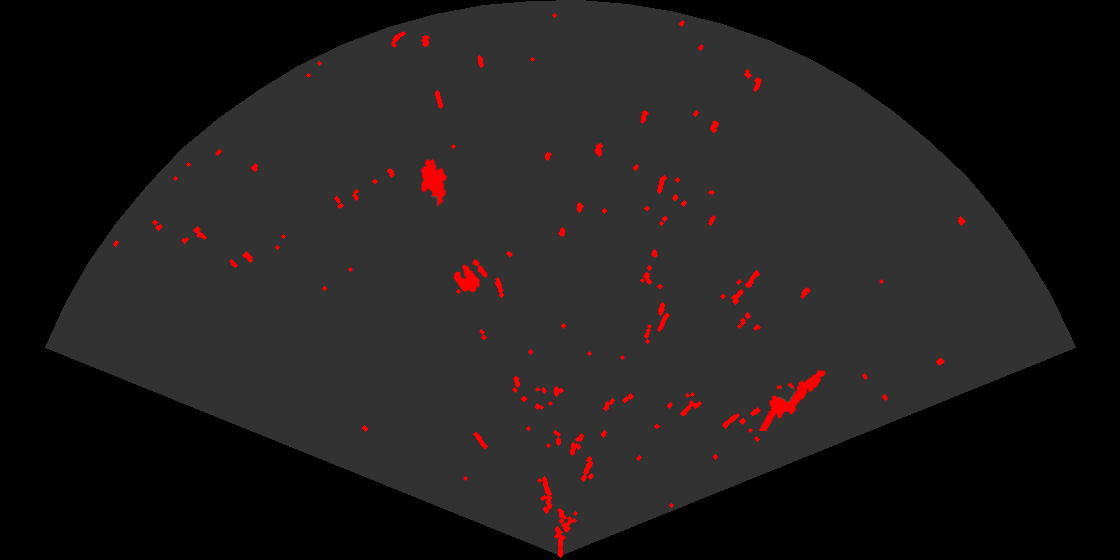AUV: (419, 157, 448, 208)
ball: (452, 258, 489, 294)
frogman: (757, 368, 827, 431)
